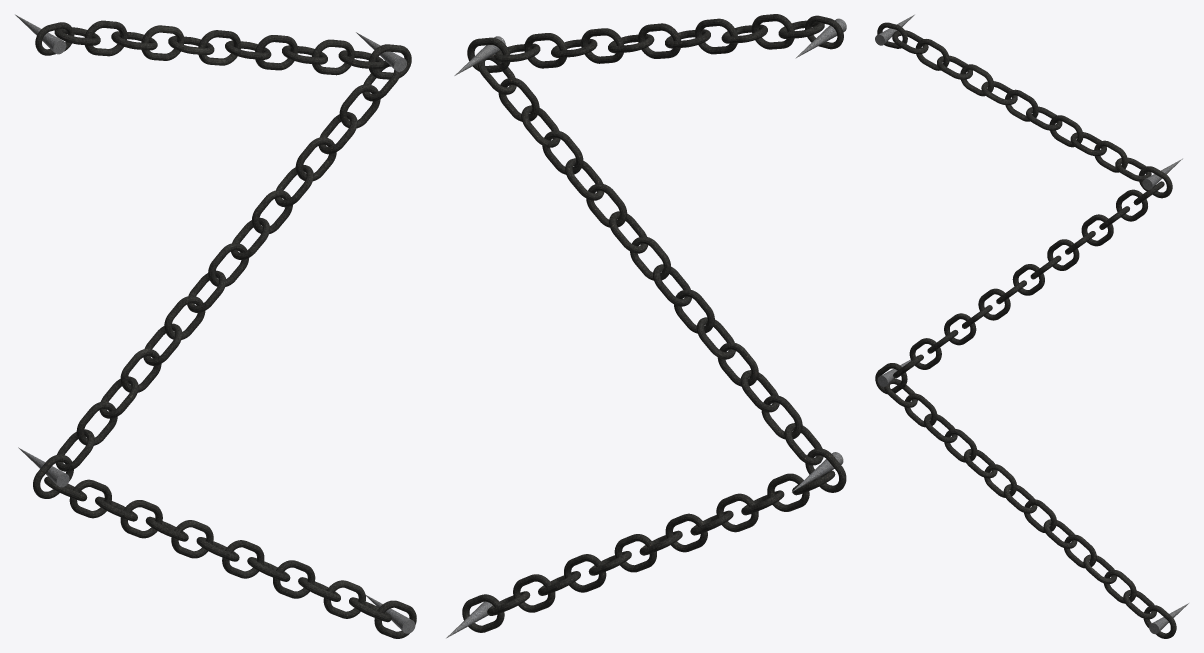
The model's file is ZincirliKap─▒.fbx.
3 renders of one model, left to right at view 1: azimuth 30°, elevation 25°; view 2: azimuth 150°, elevation 25°; view 3: azimuth 330°, elevation 25°, orthographic. The views are drawn at different scales.
Parts seen in each view (by area): view 1: Zincir; view 2: Zincir; view 3: Zincir.
Boxes of the visible parts, bbox=[...] form: Zincir: bbox=[33, 20, 416, 638]; Zincir: bbox=[462, 14, 846, 632]; Zincir: bbox=[875, 22, 1176, 638].
Size of the model in its own units: 231 by 403 by 47.65.
Materials: 2 (2 with a texture image).
